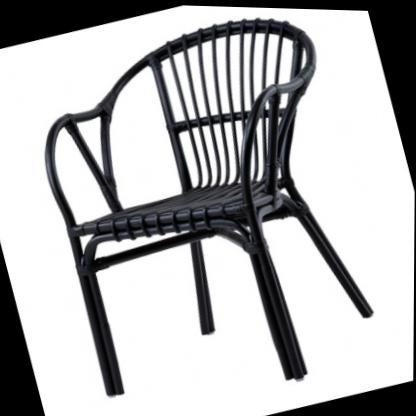Chair: (14, 0, 401, 416)
